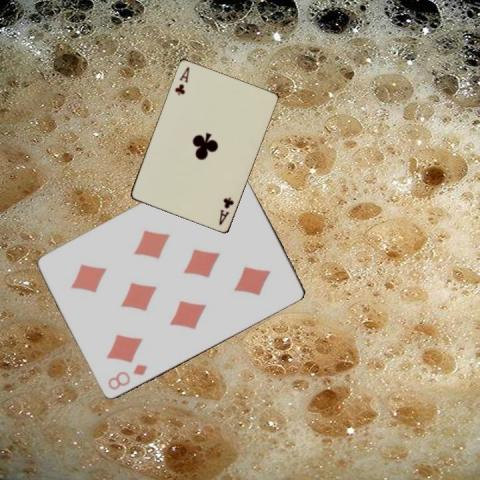8d: (105, 361, 149, 391)
Ac: (171, 63, 191, 97), (216, 194, 235, 226)
